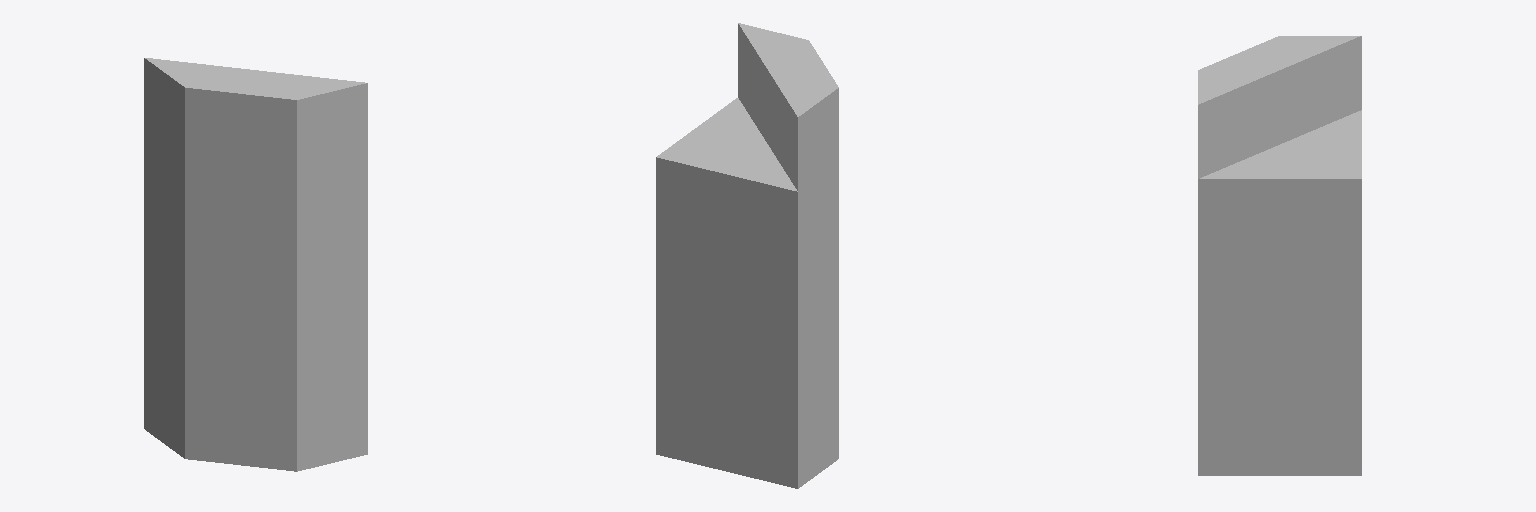
Rendered from Corner1.obj.
3 views of the same model, side by side, from view 1: azimuth 30°, elevation 25°; view 2: azimuth 150°, elevation 25°; view 3: azimuth 270°, elevation 25° (orthographic).
Parts seen in each view (by area): view 1: Corner1; view 2: Corner1; view 3: Corner1.
Part boxes in pixels (left/top/right/bottom): Corner1: left=144, top=58, right=367, bottom=471; Corner1: left=656, top=23, right=838, bottom=488; Corner1: left=1198, top=36, right=1361, bottom=475.
Size of the model in its own units: 2 by 5 by 2.